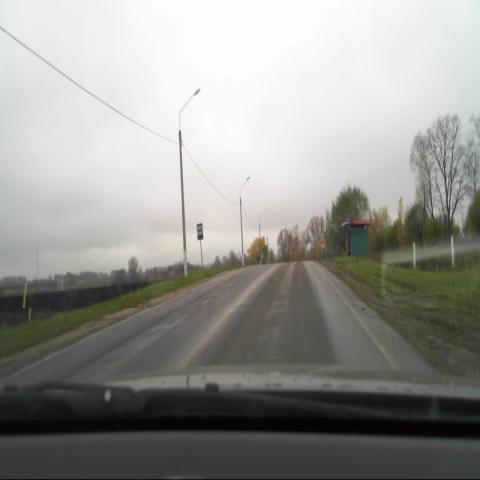5_16: (197, 224, 204, 239)
